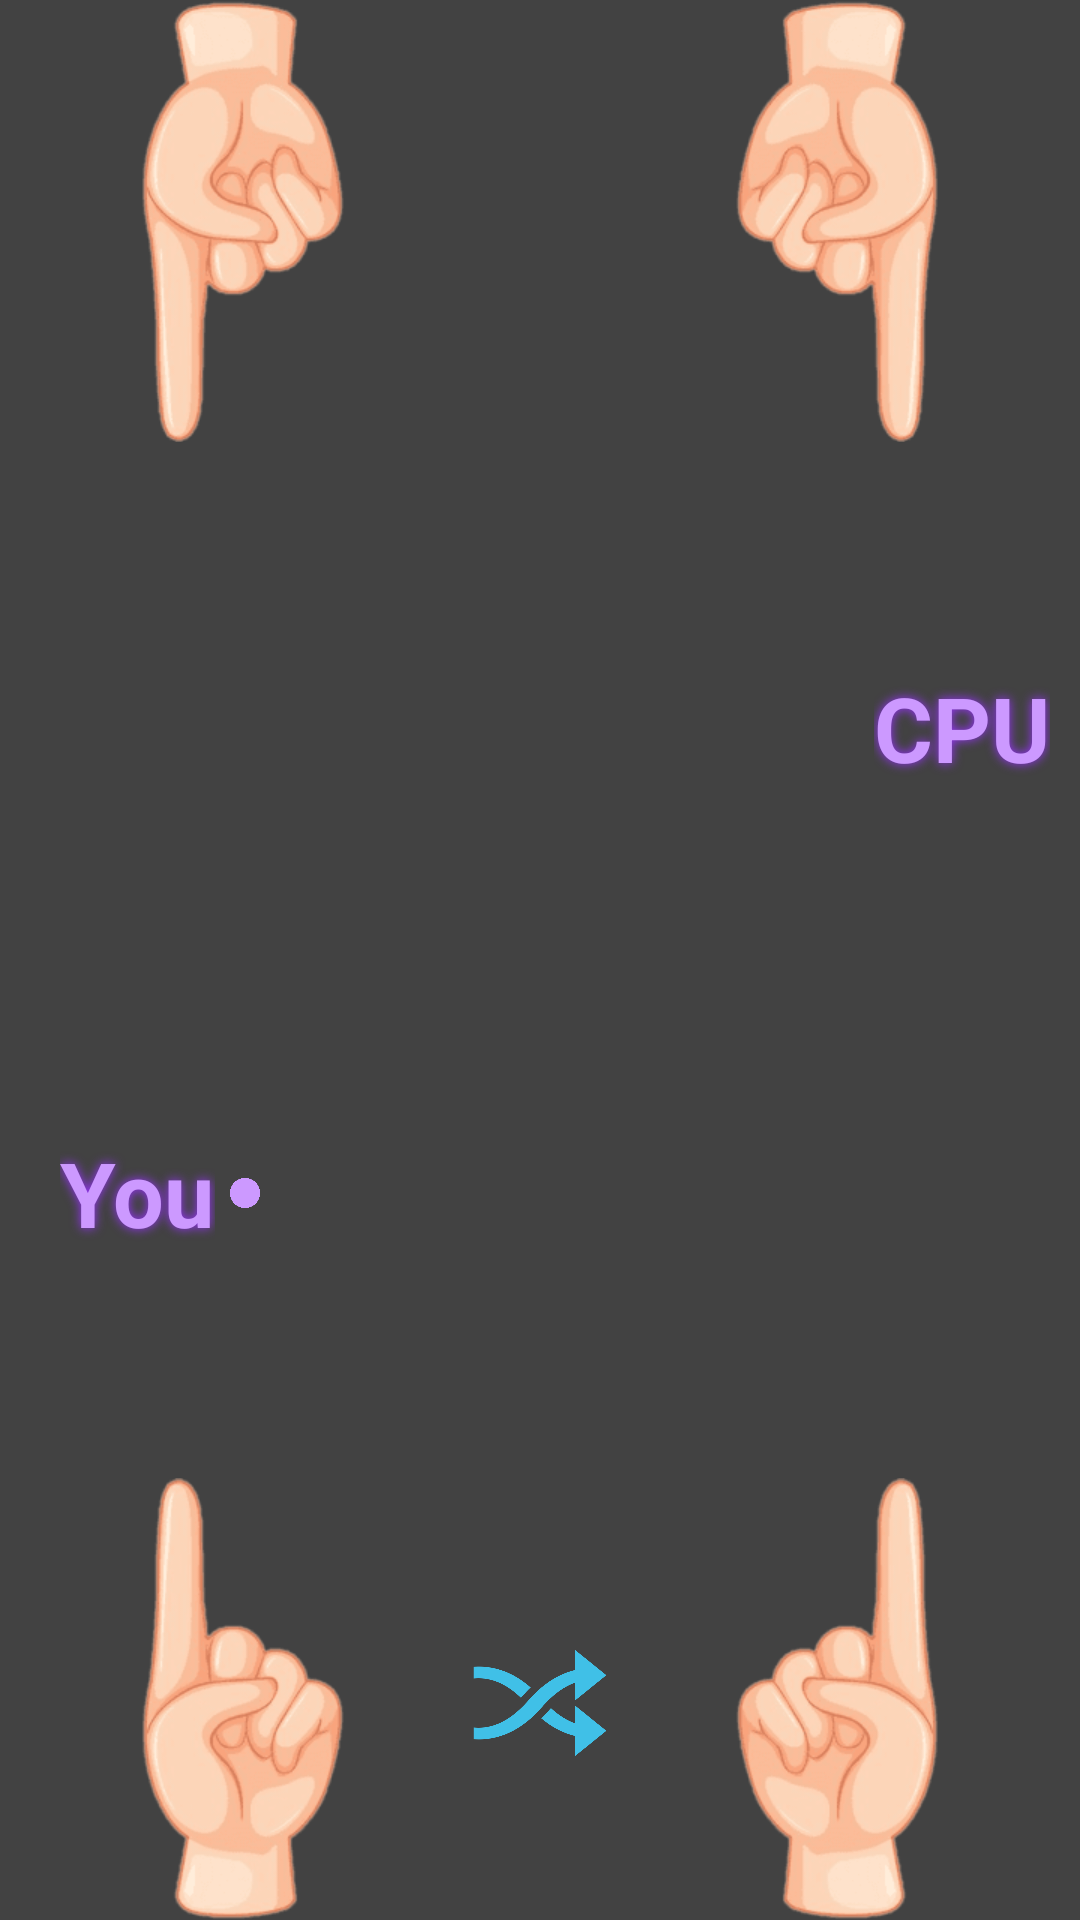

Where icons sit on this 1080px×1920px app screen, as (x1, y1, x2, y2):
Shuffle: (473, 1650, 606, 1756)
